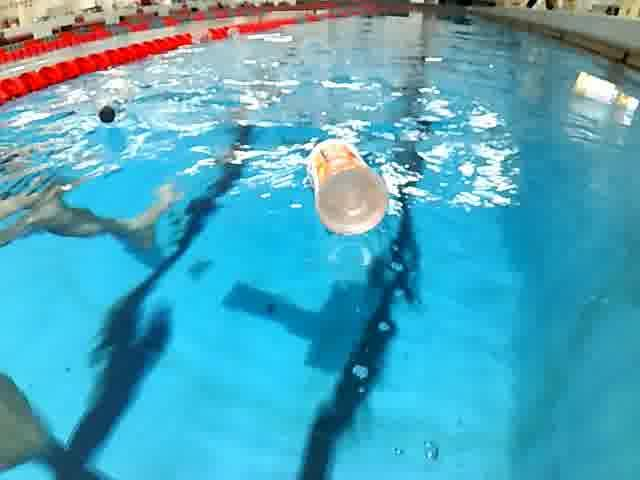Bottle: (298, 135, 394, 243), (566, 68, 640, 118), (85, 72, 144, 132)
